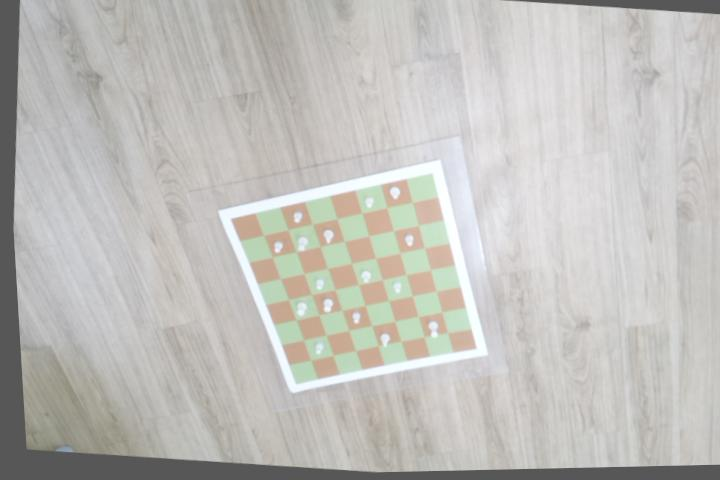chessboard-detect: (227, 175, 473, 385)
